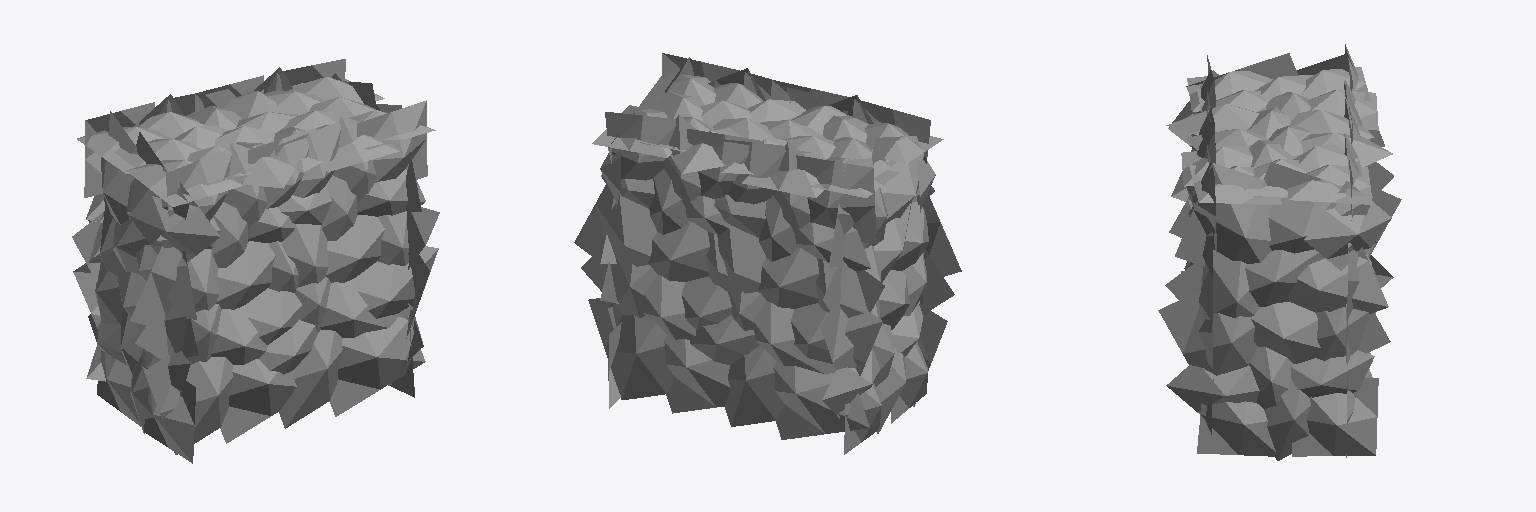
The model's file is Bush_2x2.obj.
The picture shows the model from 3 angles: view 1: azimuth 30°, elevation 25°; view 2: azimuth 150°, elevation 25°; view 3: azimuth 270°, elevation 25°; orthographic projection.
Parts seen in each view (by area): view 1: Bush_2x2_Cube.024; view 2: Bush_2x2_Cube.024; view 3: Bush_2x2_Cube.024.
Part boxes in pixels (x1,y1,x2,y2): Bush_2x2_Cube.024: (72,59,439,463); Bush_2x2_Cube.024: (574,53,961,454); Bush_2x2_Cube.024: (1158,44,1401,460).
Size of the model in its own units: 1.8 by 1.63 by 1.19.